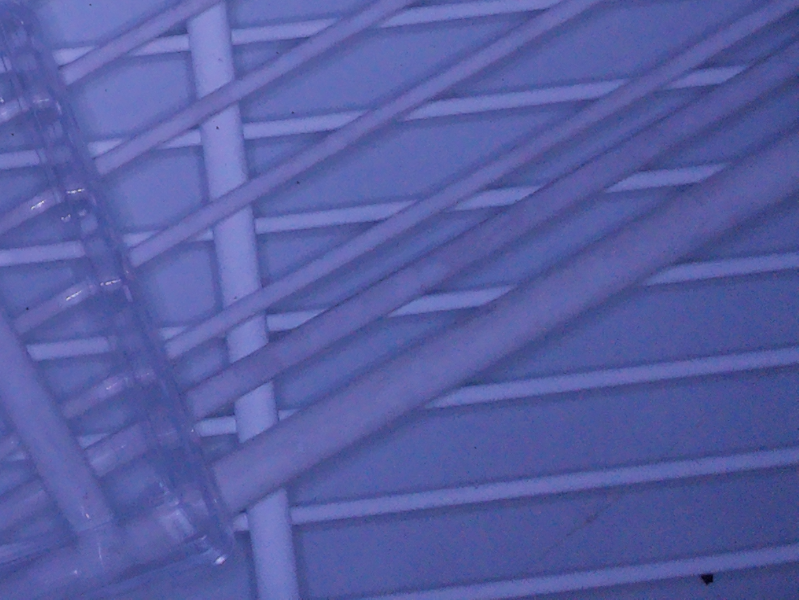plate: (1, 3, 237, 600)
